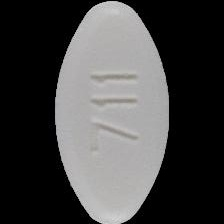0904-6183: (0, 0, 224, 224)
